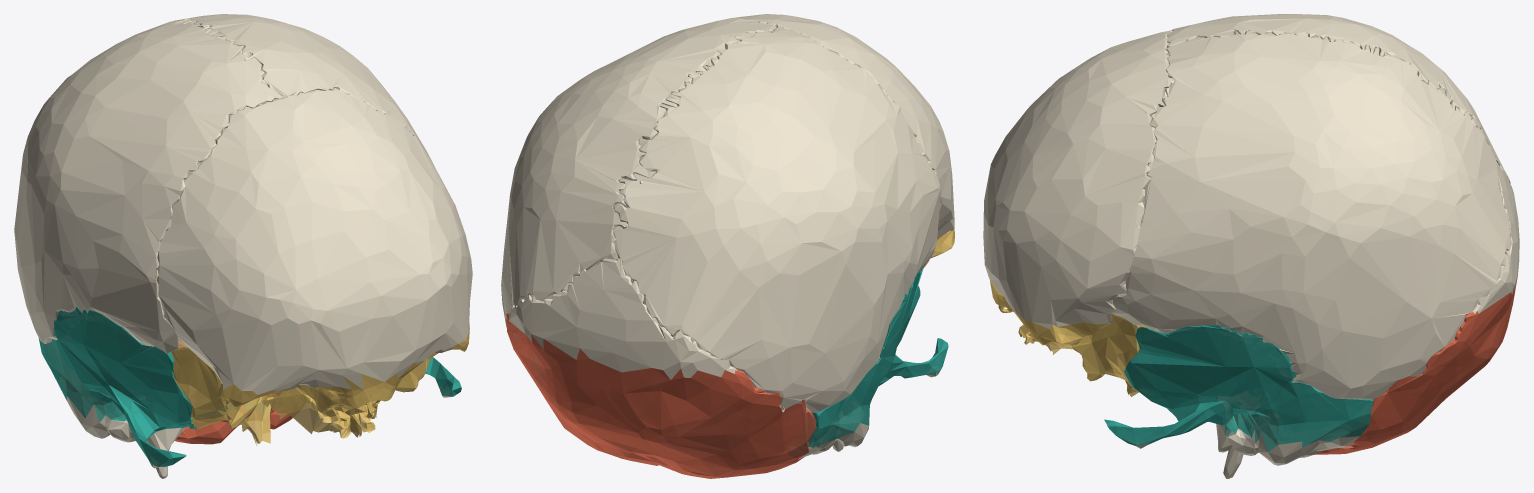
The model's file is bodyparts3d-brain-fossae.glb.
3 views of the same model, side by side, from view 1: azimuth 30°, elevation 25°; view 2: azimuth 150°, elevation 25°; view 3: azimuth 270°, elevation 25° (orthographic).
Visible parts, largest first — view 1: fossa_vault, fossa_mid, fossa_ant, fossa_post; view 2: fossa_vault, fossa_post, fossa_mid; view 3: fossa_vault, fossa_mid, fossa_post, fossa_ant.
Part boxes in pixels (x1,y1,x2,y2): fossa_vault: (14,14,472,478); fossa_mid: (38,306,461,467); fossa_ant: (171,328,469,445); fossa_post: (175,340,292,444); fossa_vault: (501,14,954,458); fossa_post: (505,313,816,478); fossa_mid: (808,267,948,447); fossa_vault: (983,14,1519,478); fossa_mid: (1104,325,1373,451); fossa_post: (1313,276,1517,454); fossa_ant: (989,278,1149,396).
Bounding box in the file's own units: 0.151 × 0.1607 × 0.1954.
